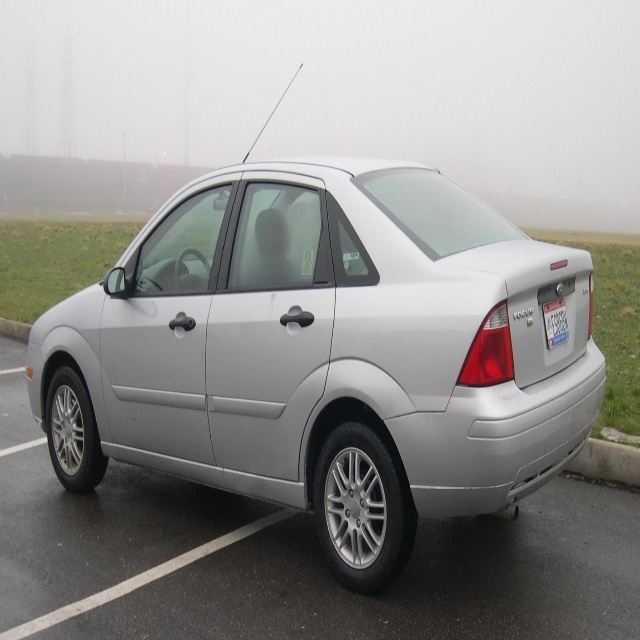Car: (26, 151, 606, 597)
